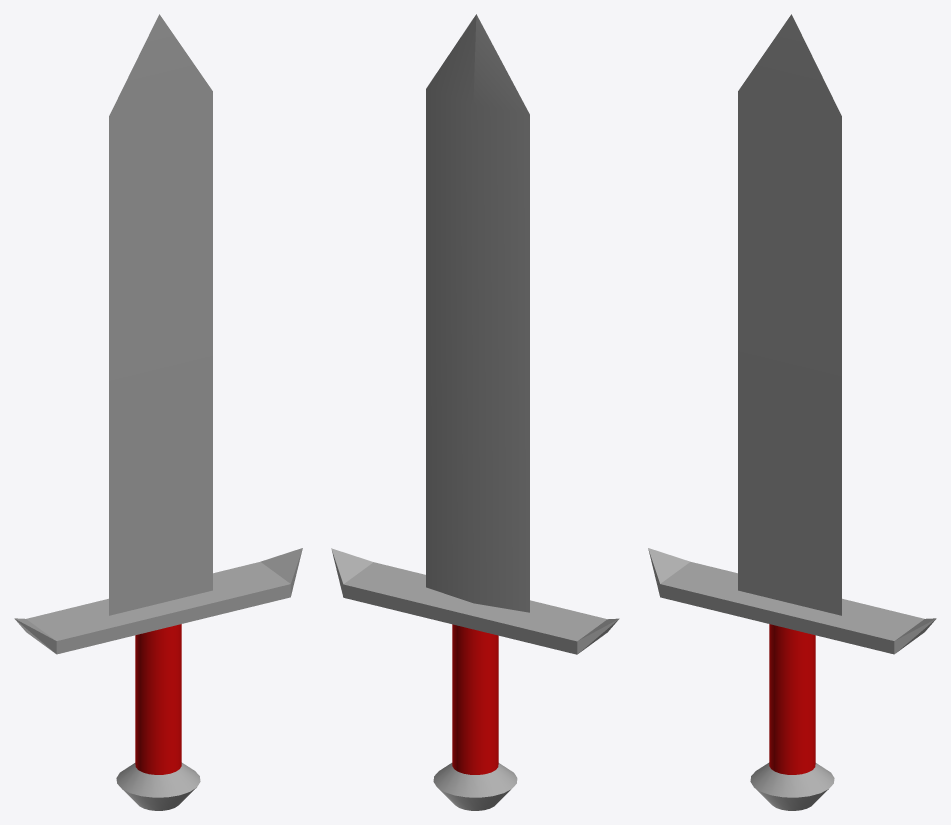
File: sword.fbx
3 renders of one model, left to right at view 1: azimuth 30°, elevation 25°; view 2: azimuth 150°, elevation 25°; view 3: azimuth 330°, elevation 25°, orthographic.
Parts seen in each view (by area): view 1: sword; view 2: sword; view 3: sword.
Boxes of the visible parts, <box> form: sword: <box>14,14,302,810</box>; sword: <box>331,14,619,810</box>; sword: <box>648,14,936,810</box>.
Bounding box in the file's own units: 0.2876 × 0.7502 × 0.073.
